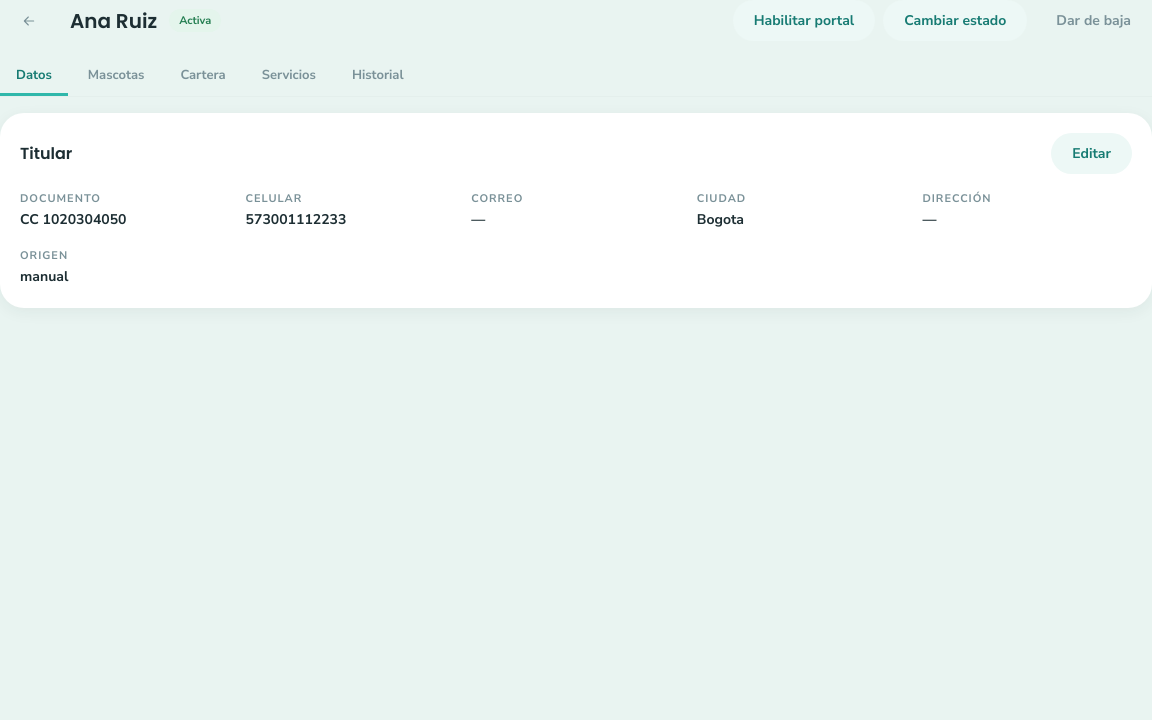
FamiliaDetallePage › registra un pago manual sobre la cuota elegida
The image size is (1152, 720).
Click the tab "Cartera": (203,77) [164,57,242,96]
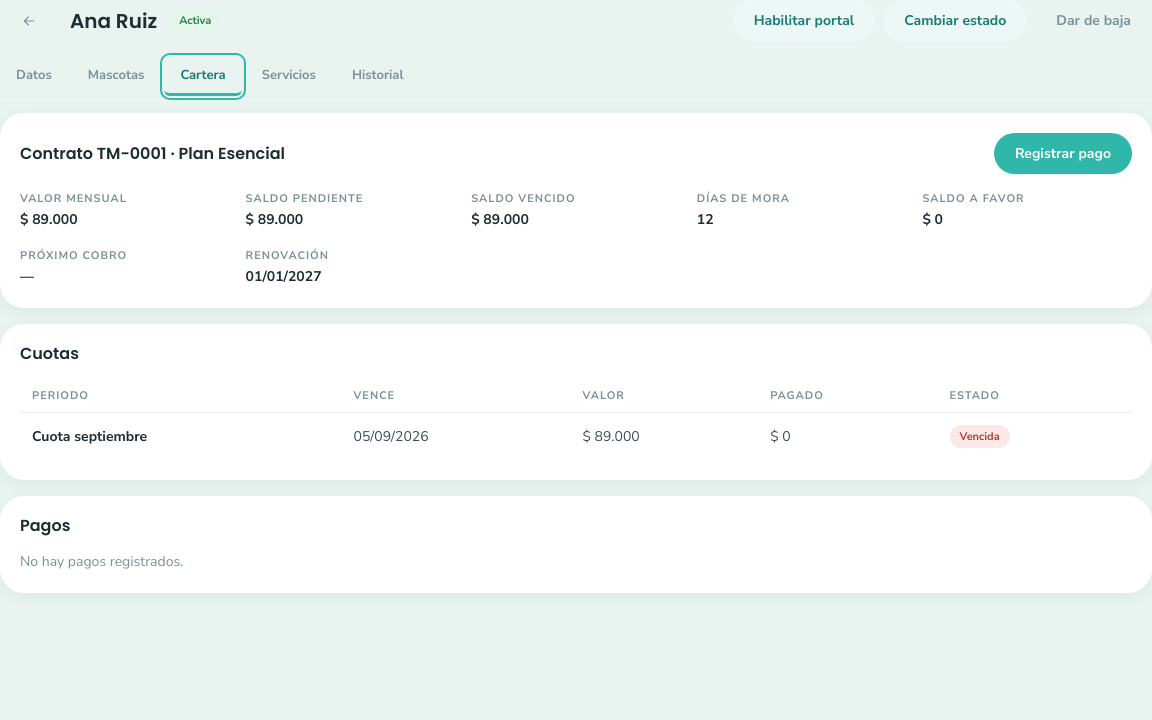
Result: the text "Cuota septiembre" is shown at [20,412,342,460]
Result: the text "Vencida" is shown at [950,425,1010,448]
Click the button "Registrar pago": (1063,154) [994,133,1132,174]
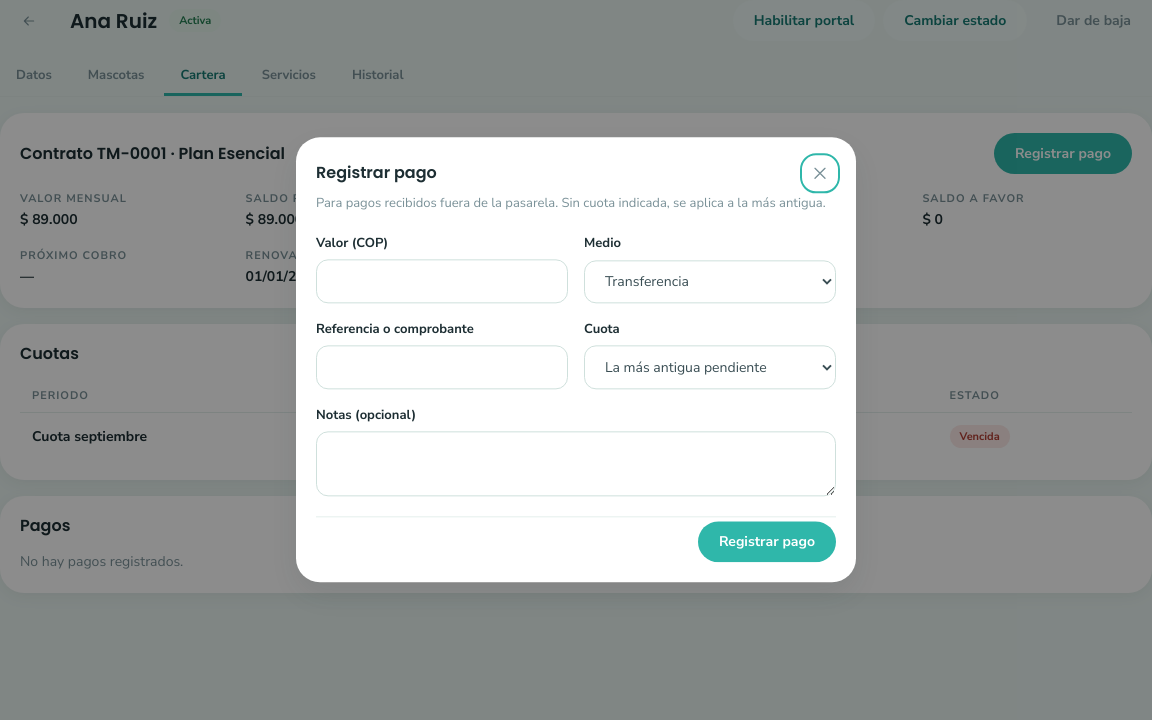
In the number field labelled "Valor (COP)": (442,281) [316,260,568,303], type "89000"
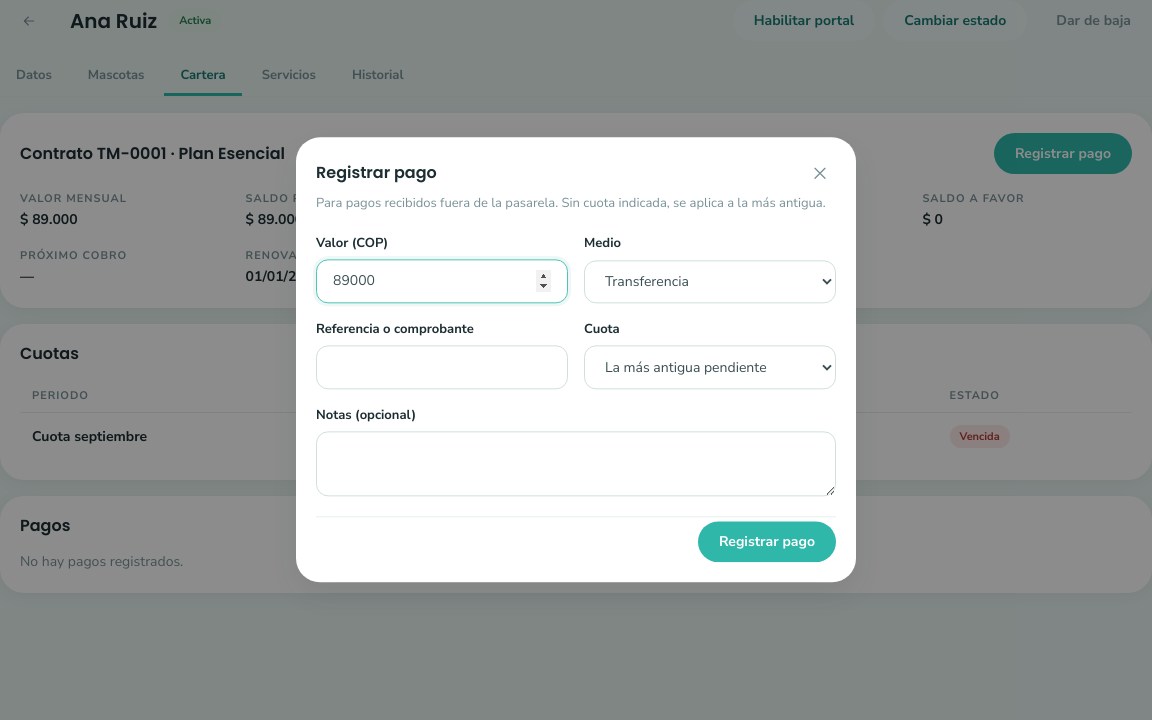
In the field labelled "Referencia o comprobante": (442,367) [316,346,568,389], type "TRF-123"
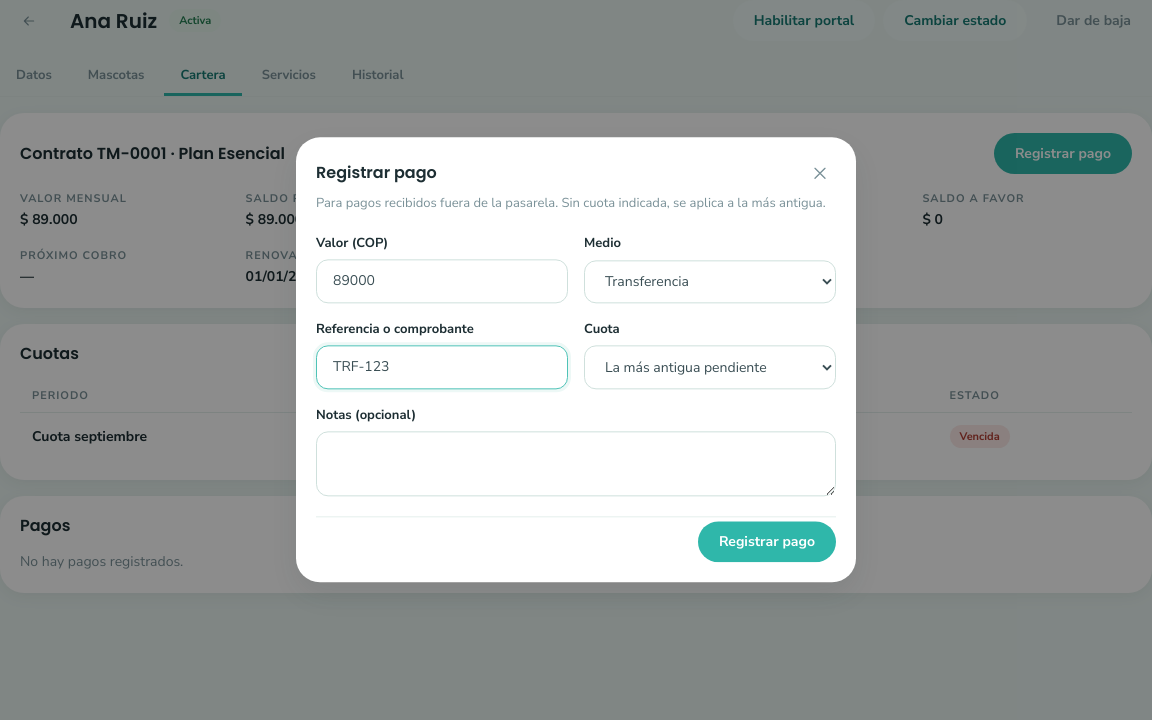
Select "Cuota septiembre · $ 89.000" in the dropdown labelled "Cuota": (710,367) [584,346,836,389]
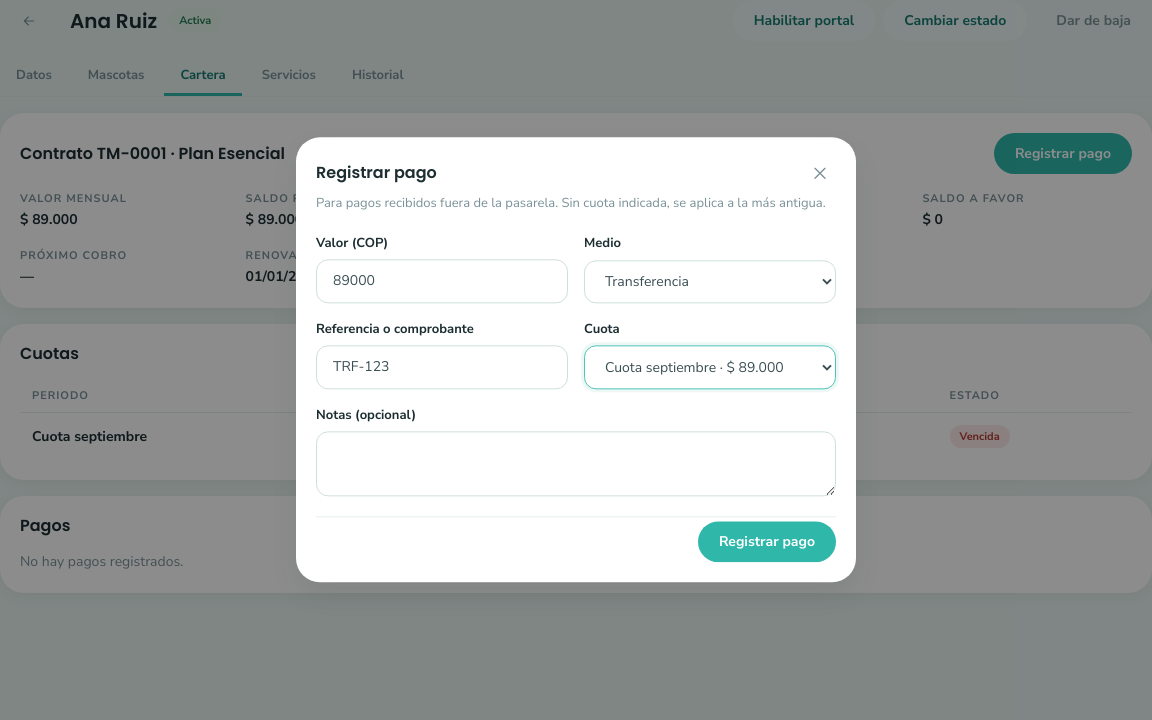
Click the button "Registrar pago": (767,542) [698,522,836,563]
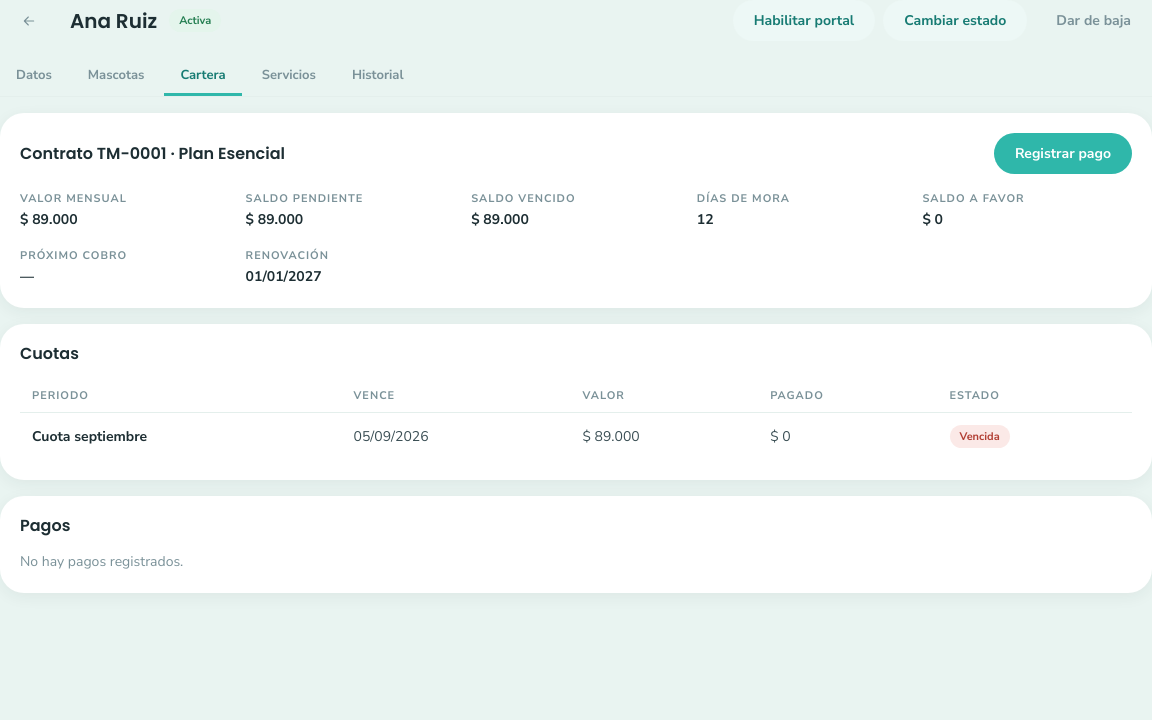
Result: the dialog is gone
